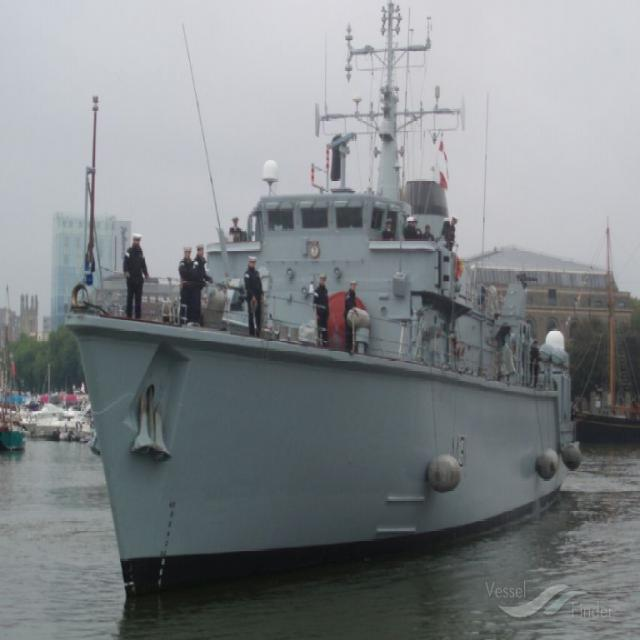OCR: (444, 423, 474, 467)
